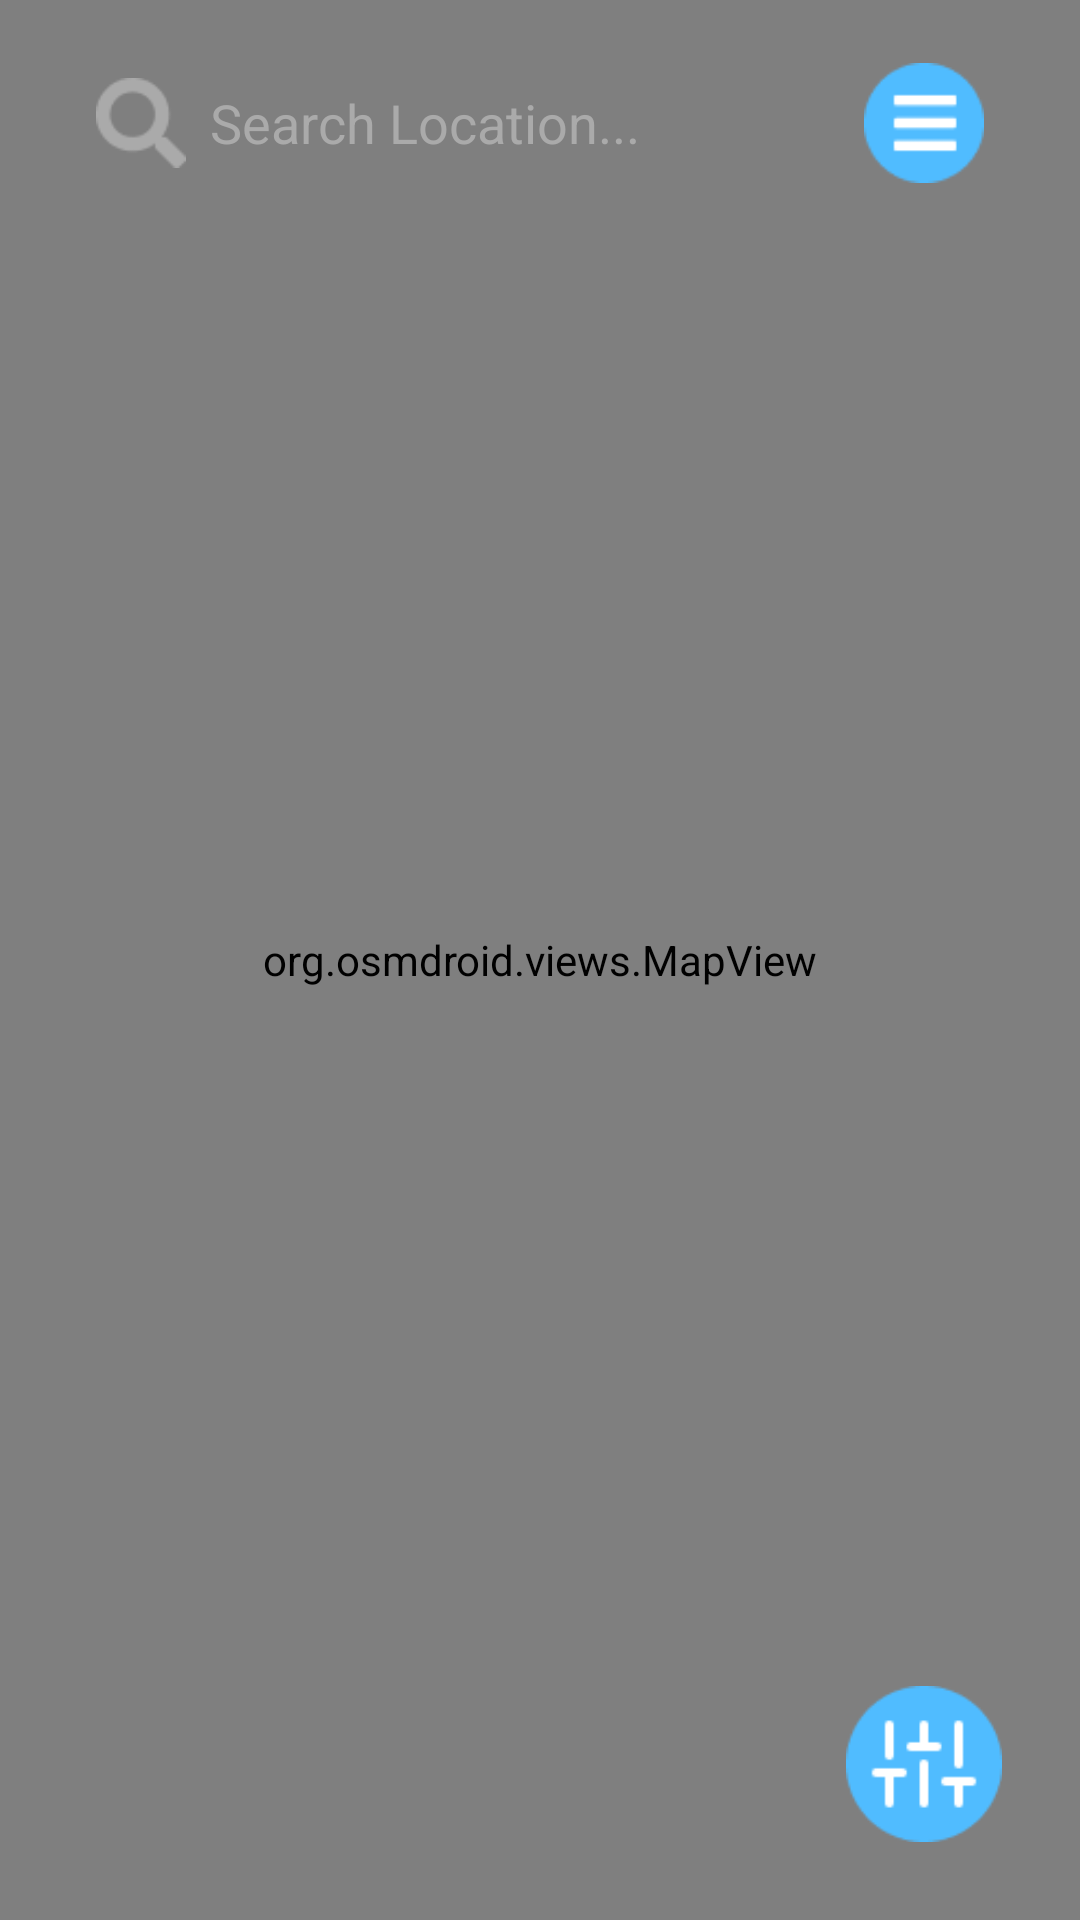

Icons on this 1080 × 1920 Android screen, each with its box as [left=x1, top=y1, right=x2, bottom=y2]:
Filter Button: [left=846, top=1686, right=1002, bottom=1842]
Menu Icon: [left=864, top=63, right=984, bottom=183]
